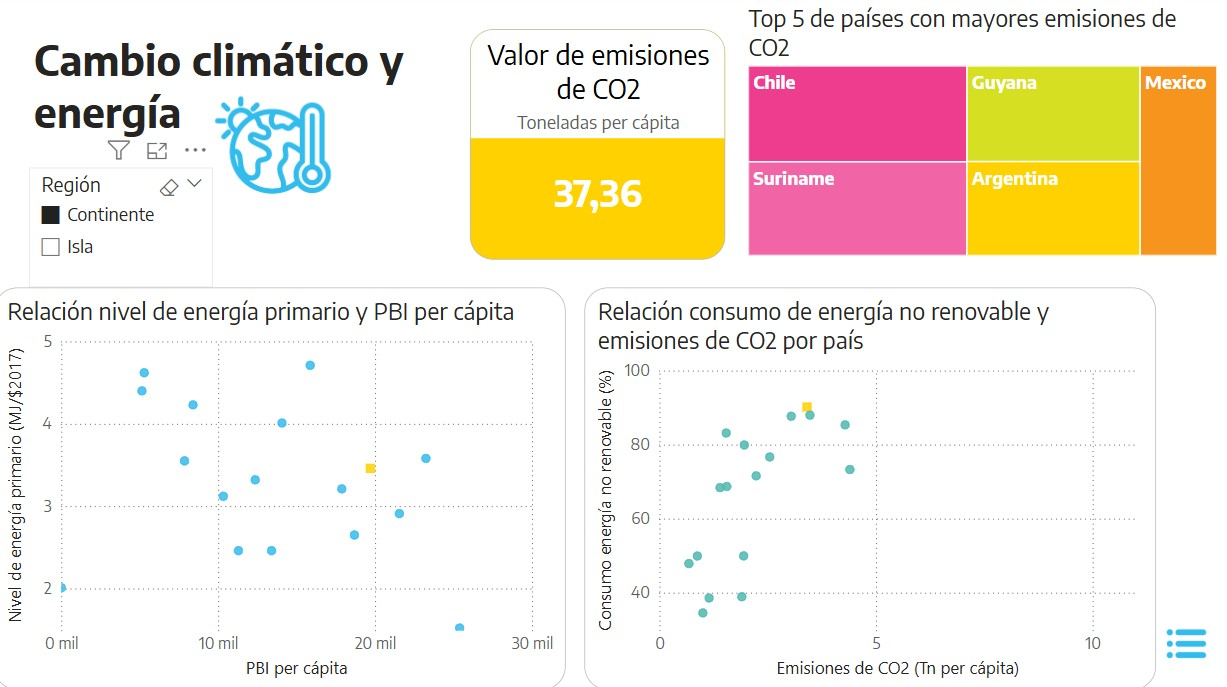

This screenshot's page, from the dashboard's own definition file:
{"tool":"powerbi","page":{"name":"Cambio climático","canvas":[1280,720],"ordinal":2},"visuals":[{"type":"card","title":"Valor de emisiones de CO2","fields":{"Values":["Hoja2.Emis por region"]},"box":[491.6,37.5,263.8,237.9],"z":0},{"type":"treemap","title":"Top 5 de países con mayores emisiones de CO2","fields":{"Values":["Sum(Hoja2.Emis_CO2)"],"Group":["Hoja2.Pais"]},"box":[773.5,10.4,493.7,266],"z":1000},{"type":"slicer","fields":{"Values":["Hoja2.Region"]},"box":[35.8,180.6,191,123.9],"z":2000},{"type":"scatterChart","title":"Relación consumo de energía no renovable y emisiones de CO2 por país","fields":{"Y":["Hoja2.Consumo energia_ NoReno"],"X":["Hoja2.Emis_CO2"],"Series":["Hoja2.Pais"]},"box":[610,304.3,590,415.7],"z":3000},{"type":"scatterChart","title":"Relación nivel de energía primario y PBI per cápita","fields":{"X":["Sum(Sheet1.PBI_percapita)"],"Y":["Hoja2.Nivel_Energia"],"Series":["worldbank.Pais"]},"box":[0,304.3,590,415.7],"z":4000},{"type":"textbox","box":[36,37.5,501.7,118.2],"z":5000},{"type":"image","box":[191.4,62.9,192.9,187.1],"z":6000},{"type":"image","box":[1177.1,624.3,102.9,95.7],"z":7000}]}

Visuals, with their boxes in screenshot pixels (x1, y1, x2, y2), scaled from the page's 1280x720 canvas onto the 1227x687 screenshot:
"Valor de emisiones de CO2" card: 471 36 724 263
"Top 5 de países con mayores emisiones de CO2" treemap: 741 10 1215 264
slicer - Hoja2.Region: 34 172 217 291
"Relación consumo de energía no renovable y emisiones de CO2 por país" scatterChart: 585 290 1150 686
"Relación nivel de energía primario y PBI per cápita" scatterChart: 0 290 566 686
textbox: 35 36 515 149
image: 183 60 368 239
image: 1128 596 1226 686
